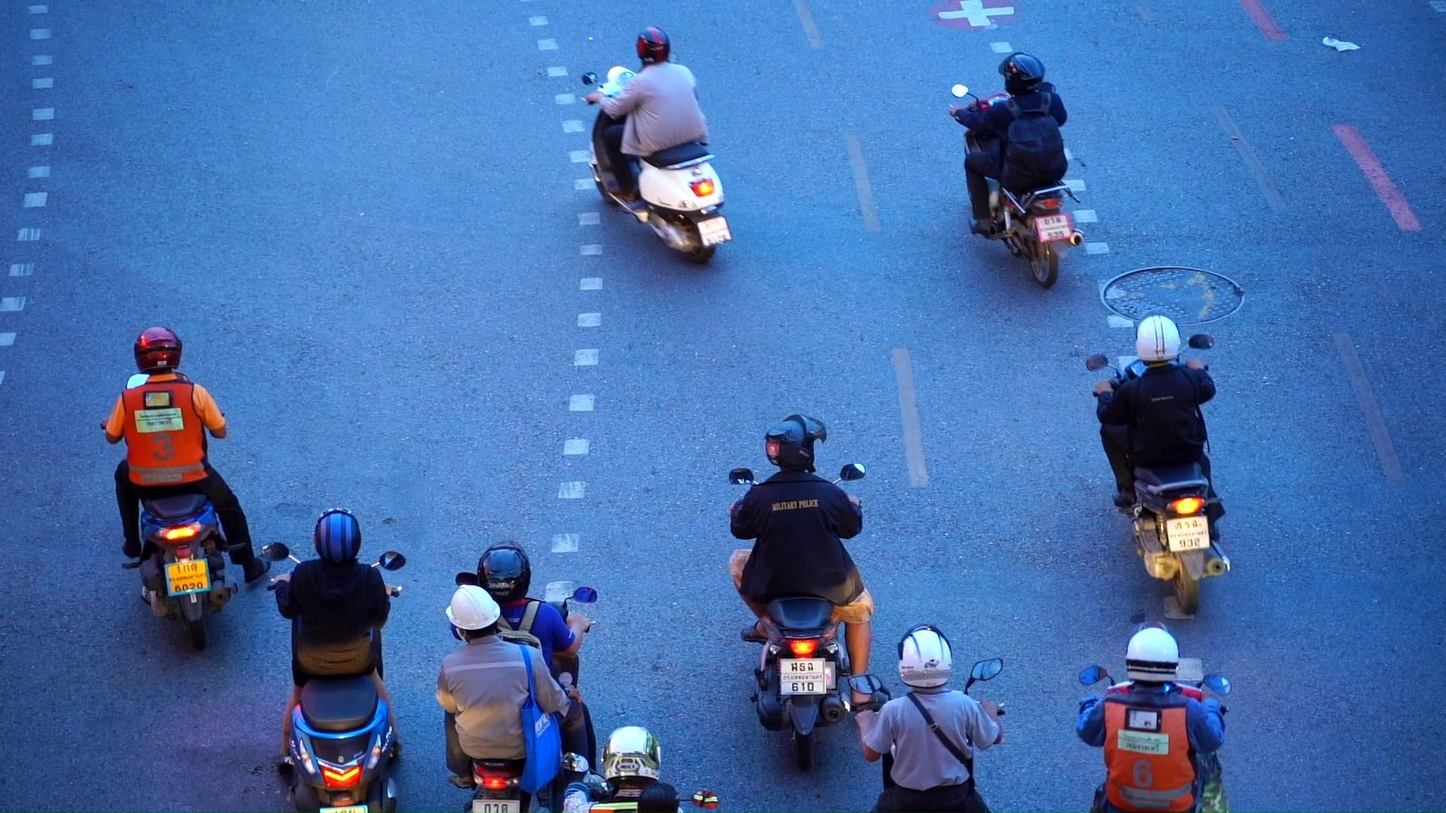driver: (727, 415, 892, 770), (100, 326, 271, 648), (261, 506, 407, 813), (1086, 309, 1230, 616), (435, 541, 597, 813), (580, 25, 732, 264), (948, 52, 1085, 289), (1078, 621, 1234, 813), (849, 623, 1005, 813), (561, 725, 719, 813)
helmet: (601, 724, 661, 787), (897, 624, 953, 689), (764, 415, 826, 473), (1126, 621, 1179, 687), (477, 541, 532, 603), (445, 584, 500, 643), (314, 506, 361, 563), (1135, 309, 1181, 367), (134, 326, 182, 373), (999, 52, 1046, 100), (635, 25, 671, 67)
no-helmet: (637, 783, 681, 813)
